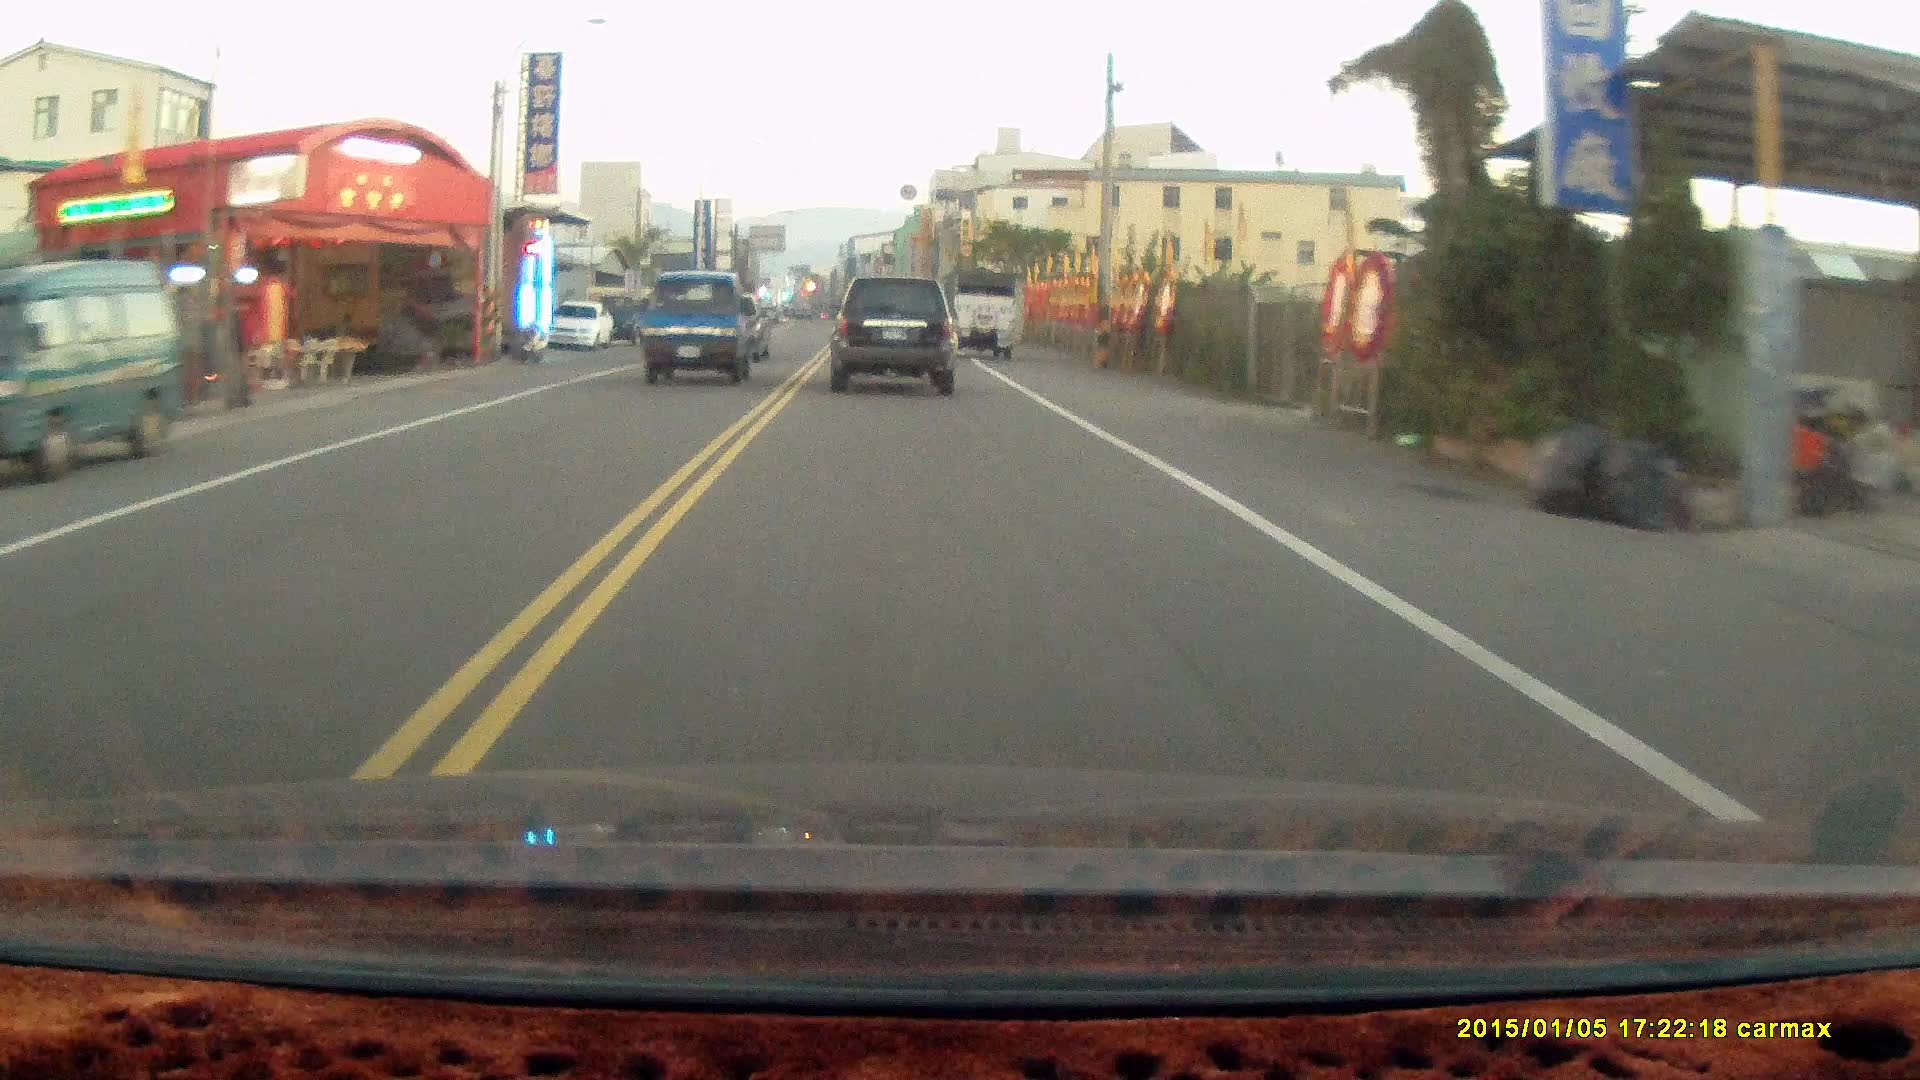vehicle: (3, 256, 196, 480), (833, 265, 968, 392), (640, 265, 774, 380), (938, 264, 1023, 359), (547, 299, 615, 347)
